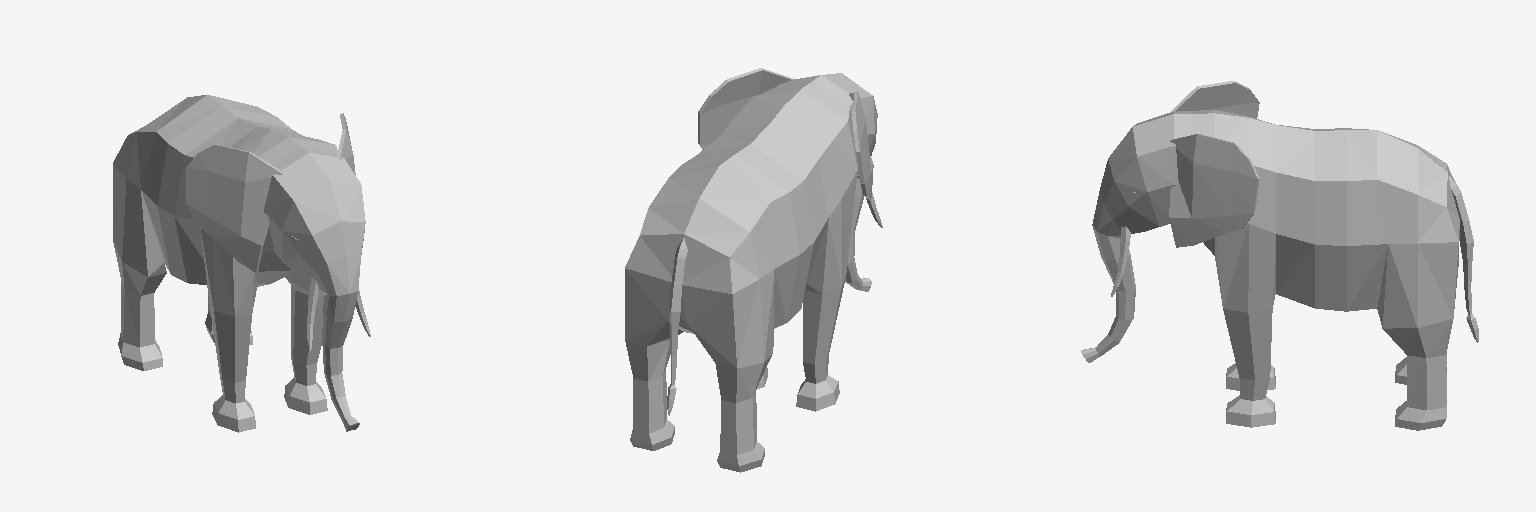
Rendered from elephant.obj.
3 views of the same model, side by side, from view 1: azimuth 30°, elevation 25°; view 2: azimuth 150°, elevation 25°; view 3: azimuth 270°, elevation 25° (orthographic).
Parts seen in each view (by area): view 1: elephant; view 2: elephant; view 3: elephant.
Part boxes in pixels (x1,y1,x2,y2): elephant: (113,95,370,432); elephant: (625,68,882,472); elephant: (1081,81,1478,430).
Bounding box in the file's own units: 112 × 187 × 231.